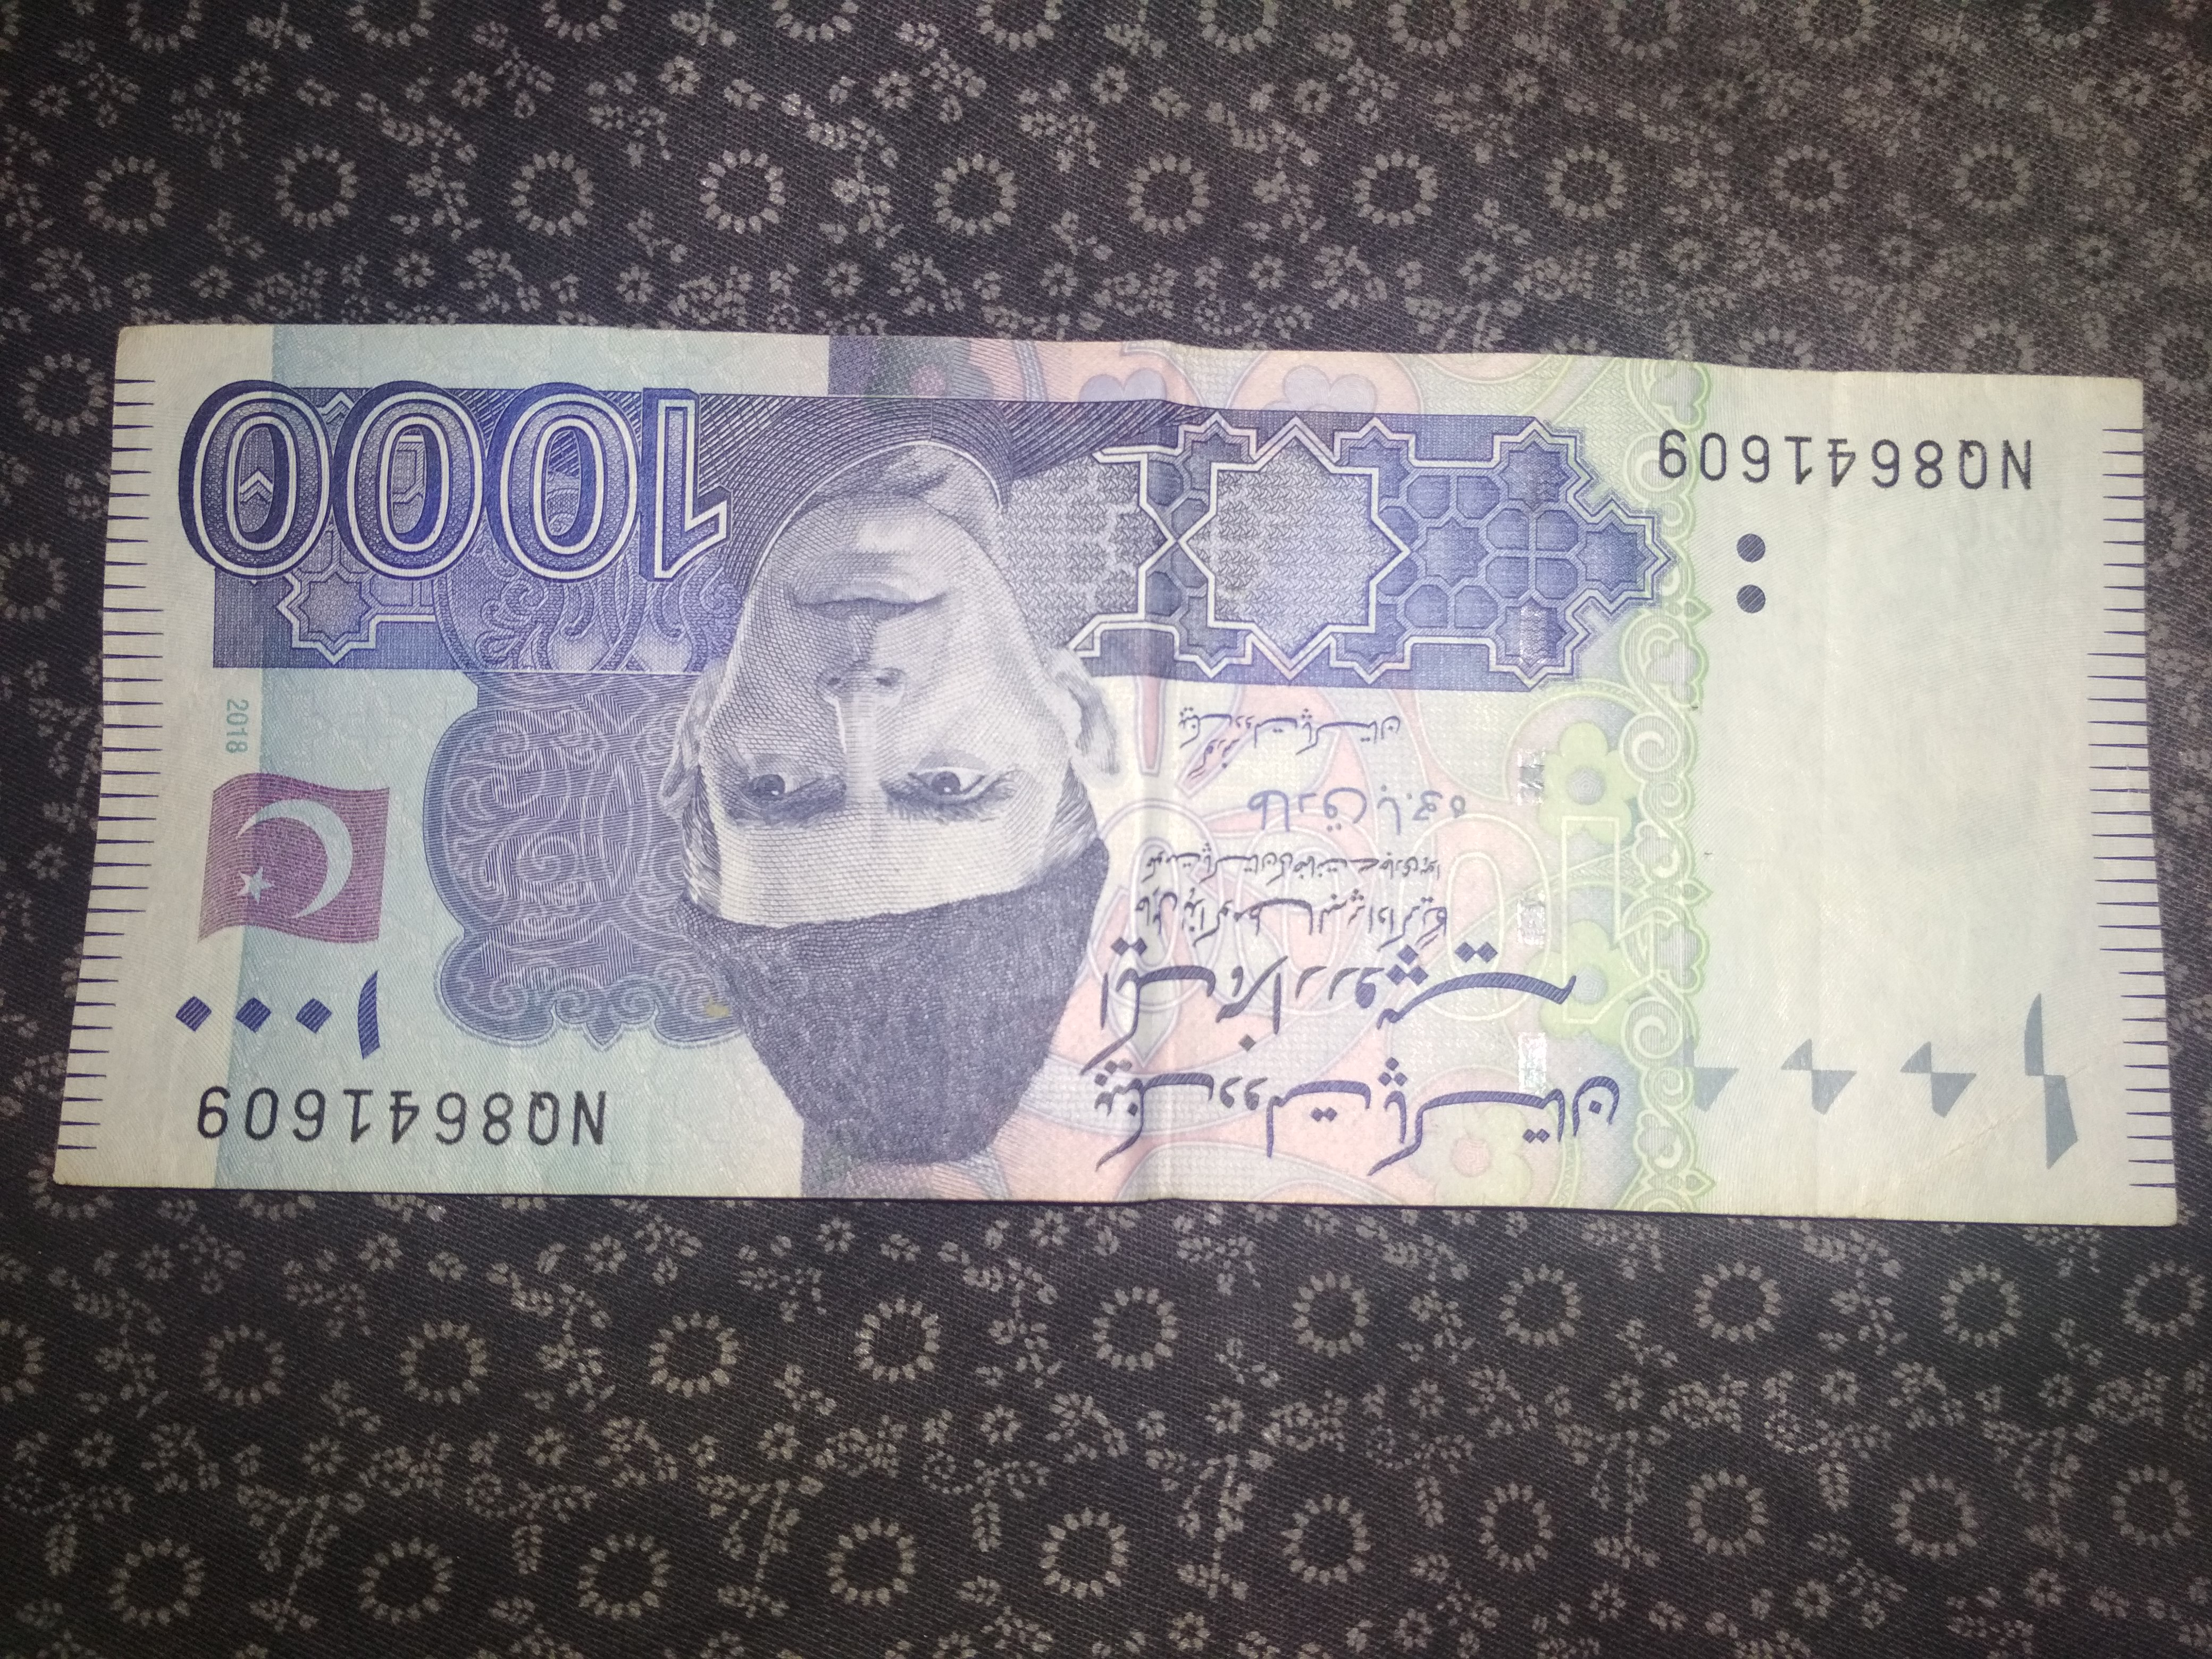1000 rupee: (37, 279, 2210, 1316)
